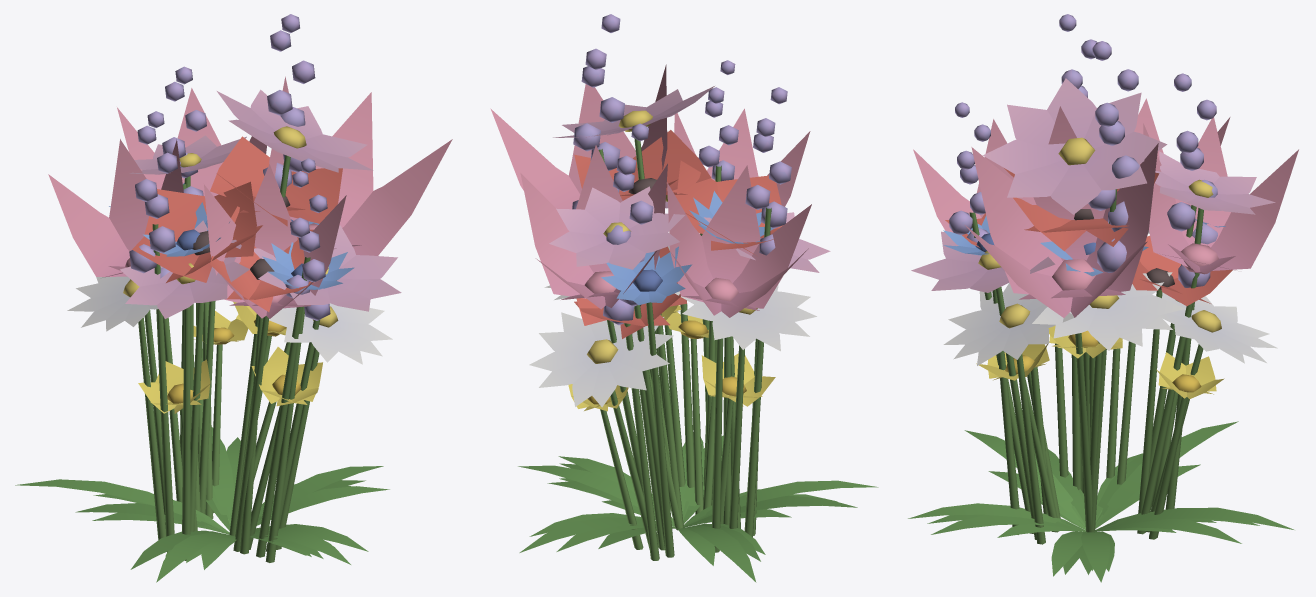
File: flowers.glb
3 renders of one model, left to right at view 1: azimuth 30°, elevation 25°; view 2: azimuth 150°, elevation 25°; view 3: azimuth 270°, elevation 25°, orthographic. The views are drawn at different scales.
Visible parts, largest first — view 1: flower_tulip_lod0, flower_cosmos_lod0, flower_poppy_lod0, flower_lavender_lod0, flower_daisy_lod0, flower_buttercup_lod0, flower_cornflower_lod0; view 2: flower_tulip_lod0, flower_cosmos_lod0, flower_lavender_lod0, flower_daisy_lod0, flower_poppy_lod0, flower_cornflower_lod0, flower_buttercup_lod0; view 3: flower_tulip_lod0, flower_cosmos_lod0, flower_daisy_lod0, flower_lavender_lod0, flower_poppy_lod0, flower_buttercup_lod0, flower_cornflower_lod0.
Part boxes in pixels (<box>): flower_tulip_lod0: <box>48,76,452,558</box>; flower_cosmos_lod0: <box>15,89,401,569</box>; flower_poppy_lod0: <box>112,136,383,569</box>; flower_lavender_lod0: <box>75,14,352,582</box>; flower_daisy_lod0: <box>67,276,392,562</box>; flower_buttercup_lod0: <box>138,301,322,549</box>; flower_cornflower_lod0: <box>92,183,365,562</box>; flower_tulip_lod0: <box>490,64,811,565</box>; flower_cosmos_lod0: <box>519,86,857,582</box>; flower_lavender_lod0: <box>529,14,878,561</box>; flower_daisy_lod0: <box>529,246,816,548</box>; flower_poppy_lod0: <box>518,130,783,550</box>; flower_cornflower_lod0: <box>556,191,837,557</box>; flower_buttercup_lod0: <box>568,305,775,549</box>; flower_tulip_lod0: <box>913,98,1298,571</box>; flower_cosmos_lod0: <box>911,78,1293,576</box>; flower_daisy_lod0: <box>943,230,1277,570</box>; flower_lavender_lod0: <box>908,14,1241,574</box>; flower_poppy_lod0: <box>927,168,1232,582</box>; flower_buttercup_lod0: <box>976,325,1224,539</box>; flower_cornflower_lod0: <box>943,215,1259,574</box>.
Bounding box in the file's own units: 0.4898 × 0.65 × 0.4441.
